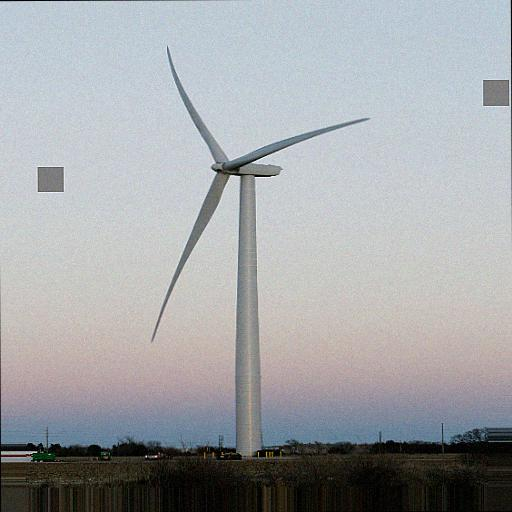wind turbine: (151, 45, 373, 455)
